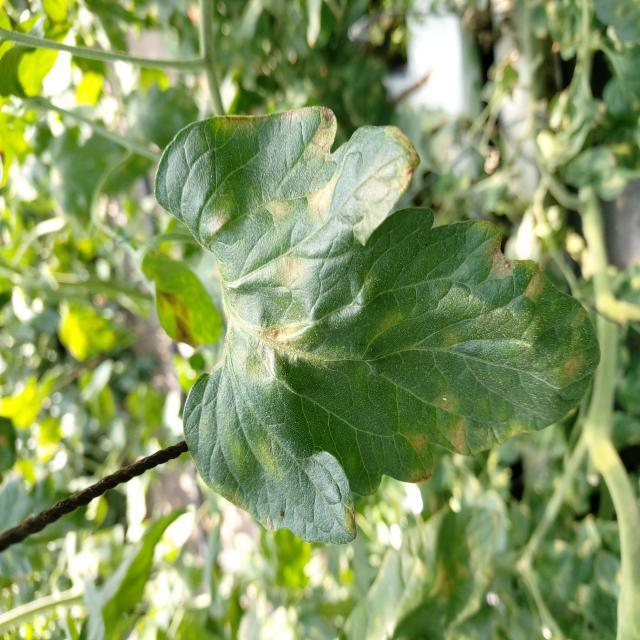Tomato mold leaf: (153, 105, 602, 544)
